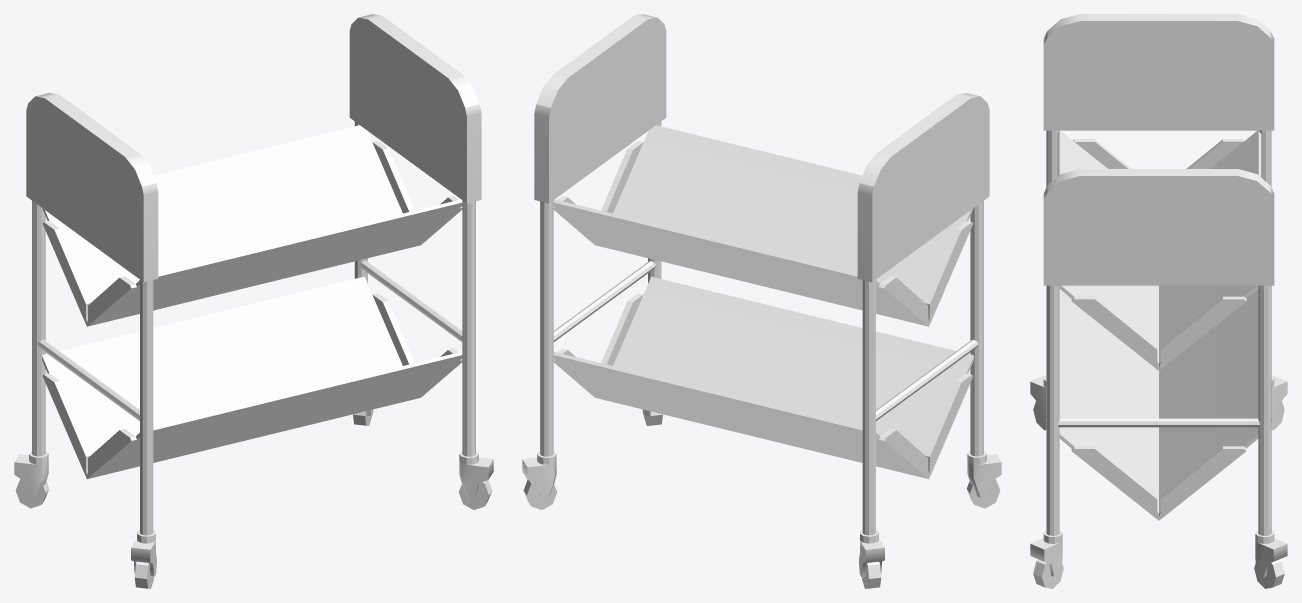
Rendered from tray.fbx.
3 views of the same model, side by side, from view 1: azimuth 30°, elevation 25°; view 2: azimuth 150°, elevation 25°; view 3: azimuth 270°, elevation 25° (orthographic).
Parts seen in each view (by area): view 1: tray; view 2: tray; view 3: tray.
Boxes of the visible parts, x1,y1,x2,y2 form: tray: [14, 14, 493, 588]; tray: [522, 14, 1001, 588]; tray: [1030, 14, 1287, 588].
Size of the model in its own units: 0.00596 by 0.0066 by 0.00373.
1 material, 1 textured.
